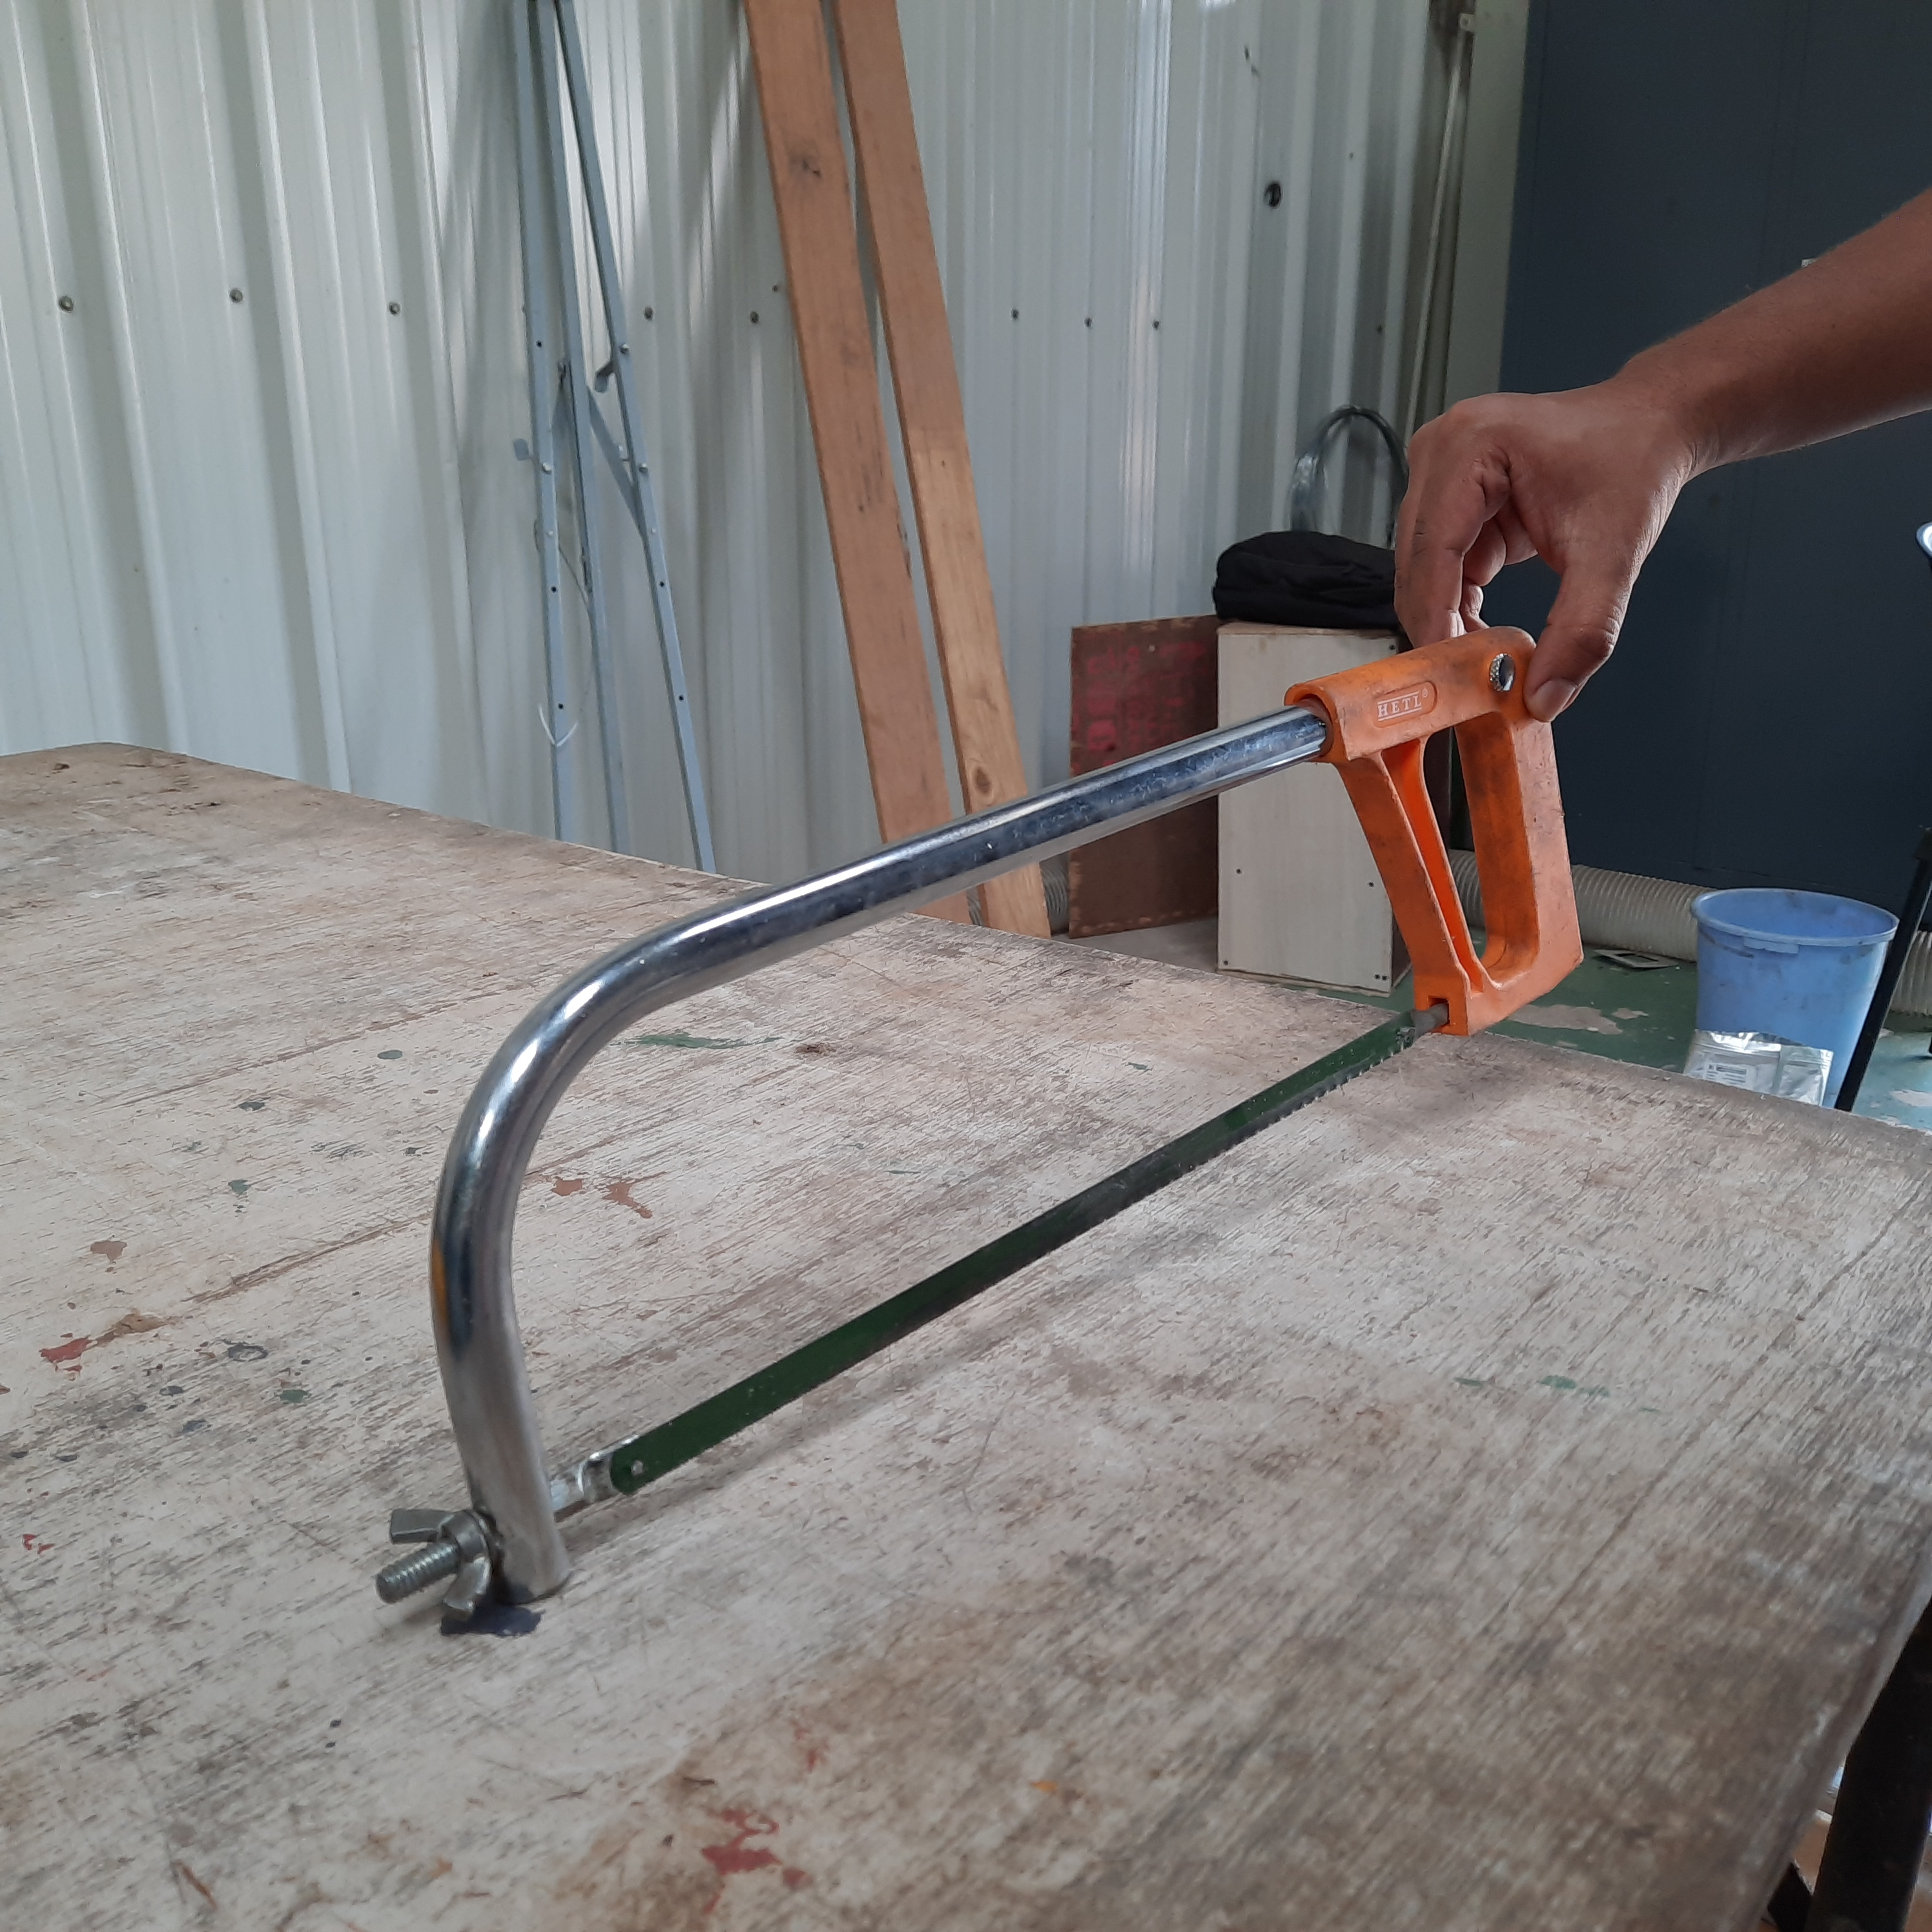Hexaframe: (318, 619, 1658, 1652)
